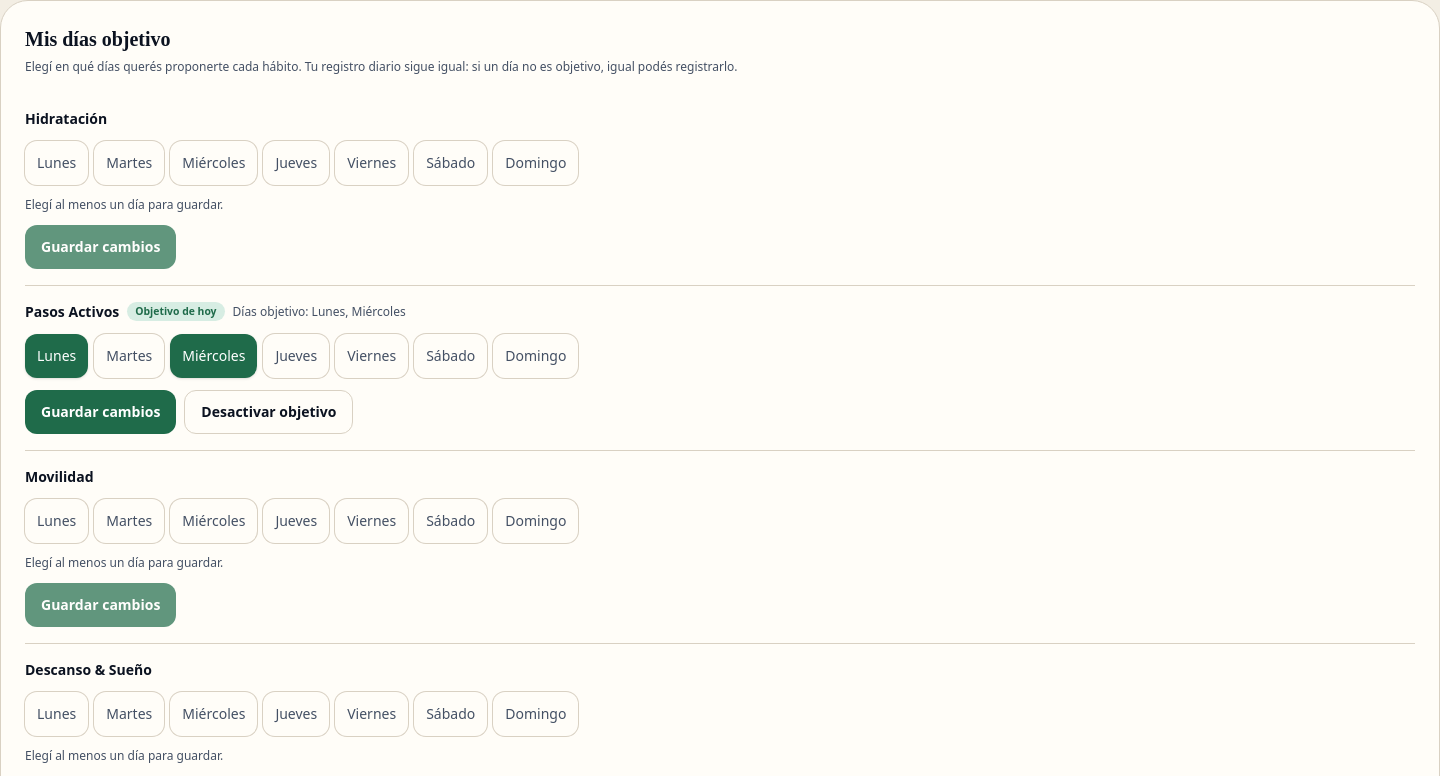
HabitTargetSettings › requires an explicit confirmation before deactivating and keeps the target on cancel
Click the button "Desactivar objetivo" at (269, 412), box top-left (184, 390), bottom-right (353, 434)
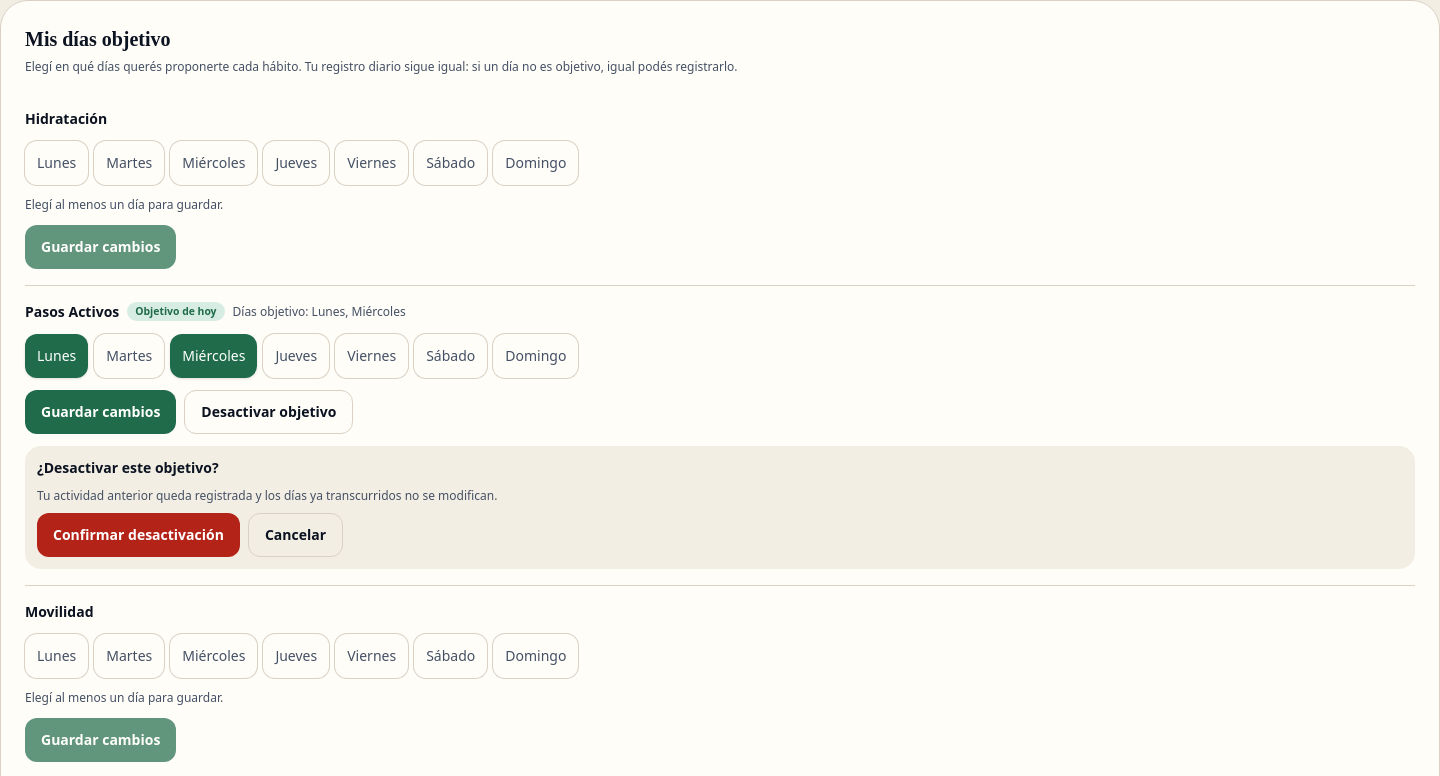
Expected: the text "¿Desactivar este objetivo?" is shown, top-left (37, 458), bottom-right (219, 476)
Expected: the text "Tu actividad anterior queda registrada y los días ya transcurridos no se modifican." is shown, top-left (37, 486), bottom-right (497, 504)
Click the button "Cancelar" at (295, 535), box top-left (248, 513), bottom-right (343, 557)
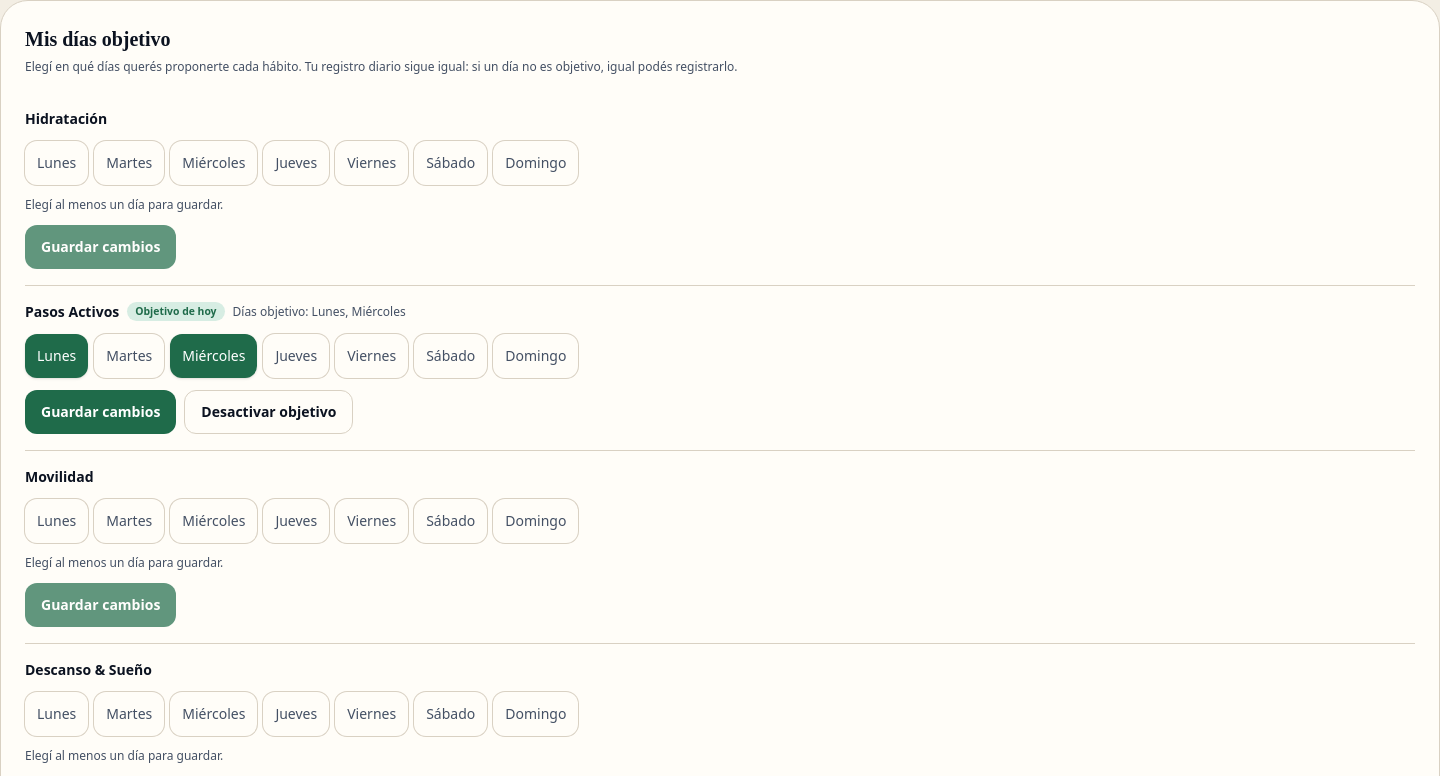
Expected: the text "¿Desactivar este objetivo?" is gone
